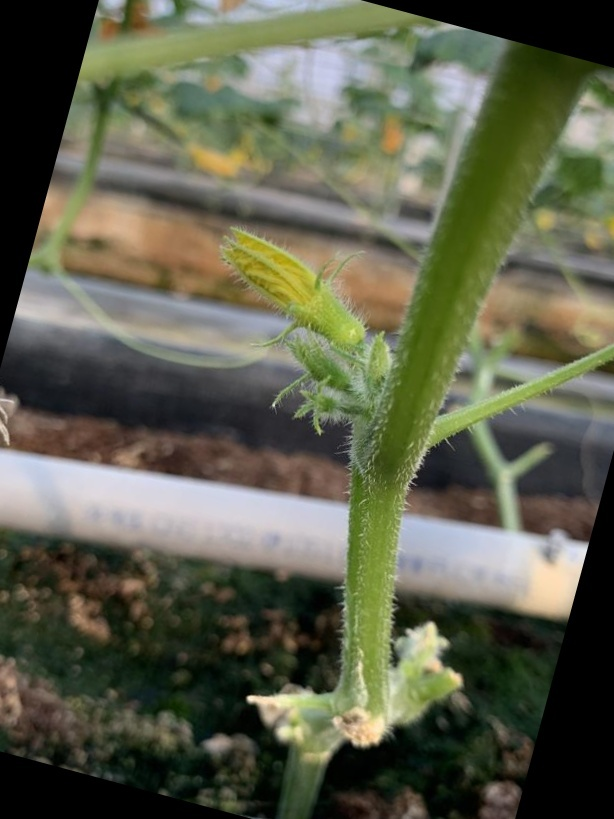bud: (208, 221, 369, 349)
